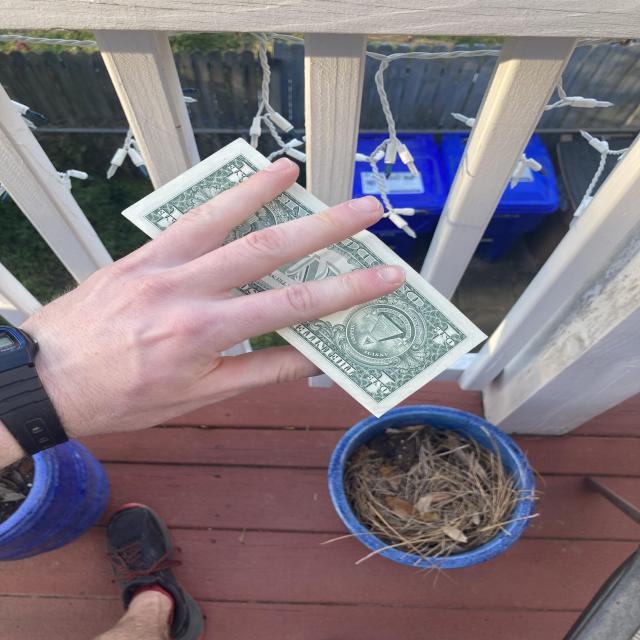one: (113, 107, 498, 442)
